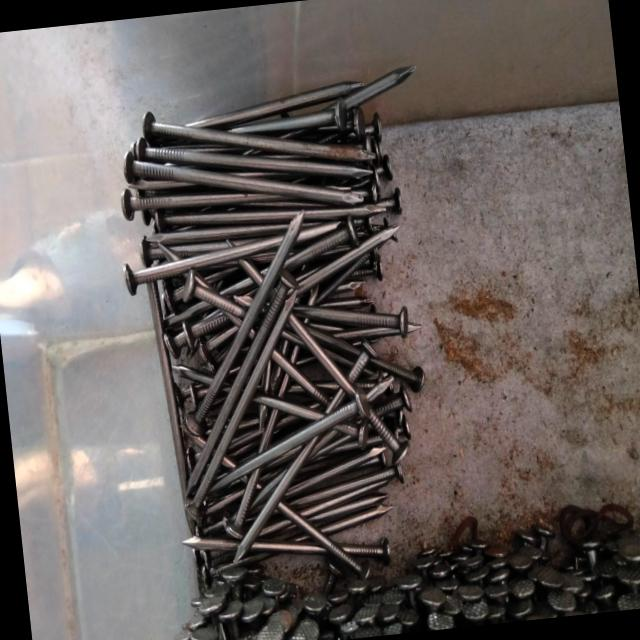3x10 nail: (148, 199, 344, 531), (85, 56, 471, 222)
